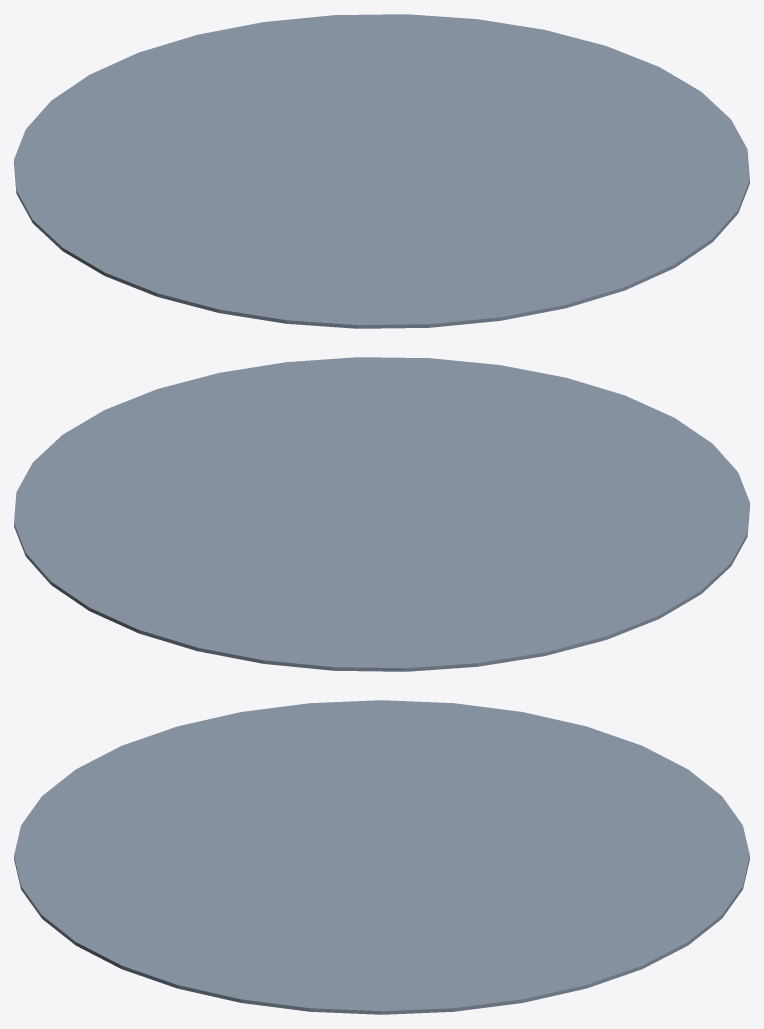
Rendered from Water.fbx.
The picture shows the model from 3 angles, top to bottom: view 1: azimuth 30°, elevation 25°; view 2: azimuth 150°, elevation 25°; view 3: azimuth 270°, elevation 25°; orthographic projection.
Visible parts, largest first — view 1: Water; view 2: Water; view 3: Water.
Part boxes in pixels (x1,y1,x2,y2): Water: [14, 14, 749, 328]; Water: [14, 357, 749, 671]; Water: [14, 700, 749, 1014].
Size of the model in its own units: 6386 by 34.44 by 6386.
